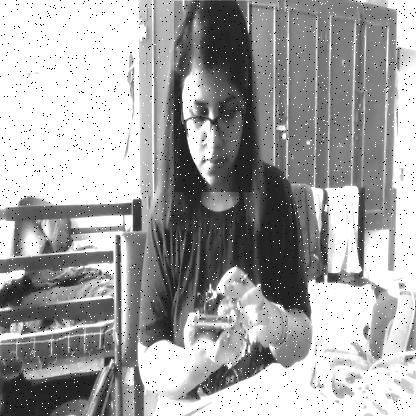Normal: (174, 1, 252, 192)
